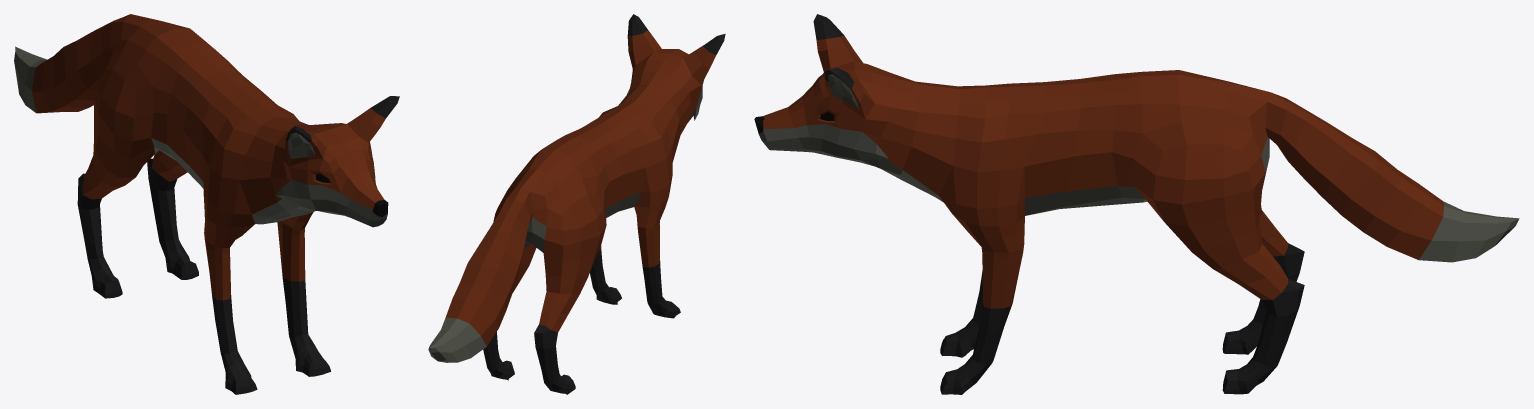
File: Fox.obj
The picture shows the model from 3 angles, left to right: view 1: azimuth 30°, elevation 25°; view 2: azimuth 150°, elevation 25°; view 3: azimuth 270°, elevation 25°; orthographic projection. The views are drawn at different scales.
Visible parts, largest first — view 1: Fox_Cube; view 2: Fox_Cube; view 3: Fox_Cube.
Part boxes in pixels (left/top/right/bottom): Fox_Cube: left=14, top=14, right=399, bottom=394; Fox_Cube: left=428, top=14, right=725, bottom=394; Fox_Cube: left=754, top=14, right=1519, bottom=394.
Bounding box in the file's own units: 1.12 × 2.69 × 5.59.
